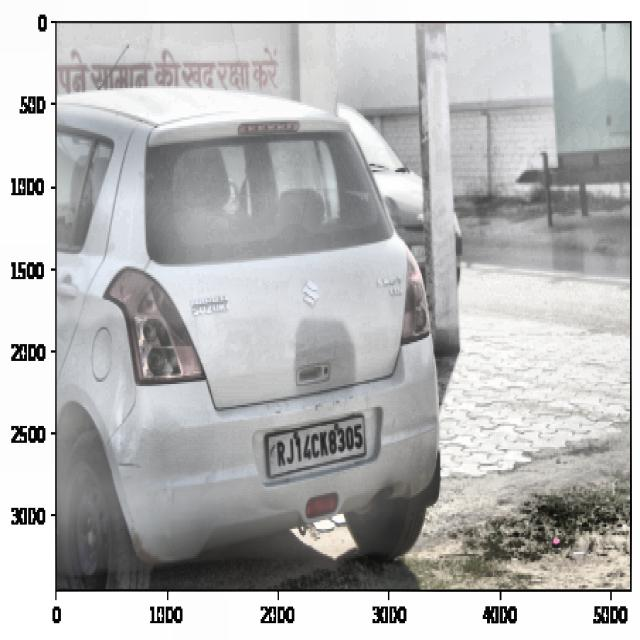license_plate: (269, 418, 366, 466)
